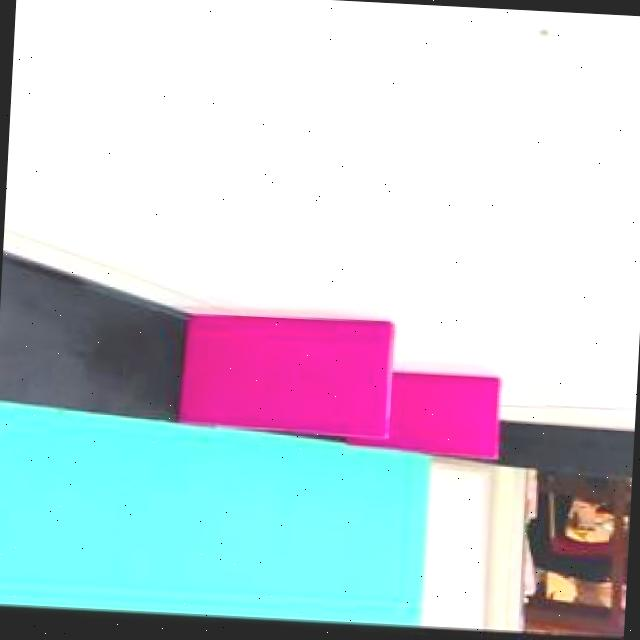xparking: (188, 312, 389, 432), (391, 370, 498, 452)
